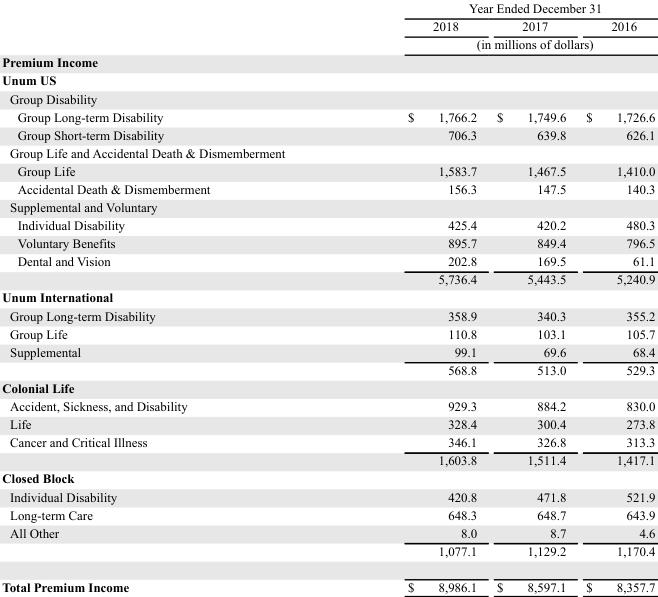table: (1, 0, 654, 593)
table column: (1, 0, 308, 593), (308, 0, 486, 593), (486, 0, 575, 593), (575, 0, 654, 593)
table column header: (1, 0, 654, 52)
table projected row header: (1, 70, 654, 89), (1, 468, 654, 487), (1, 52, 654, 70), (1, 89, 654, 107), (1, 143, 654, 161), (1, 197, 654, 215), (1, 288, 654, 306), (1, 378, 654, 396)
table row: (1, 541, 654, 568), (1, 568, 654, 593), (1, 70, 654, 89), (1, 251, 654, 270), (1, 468, 654, 487), (1, 16, 654, 34), (1, 34, 654, 52), (1, 52, 654, 70), (1, 89, 654, 107), (1, 107, 654, 125), (1, 125, 654, 143), (1, 143, 654, 161), (1, 161, 654, 179), (1, 179, 654, 197), (1, 197, 654, 215), (1, 215, 654, 233), (1, 233, 654, 251), (1, 270, 654, 288), (1, 288, 654, 306), (1, 306, 654, 324), (1, 324, 654, 342), (1, 342, 654, 360), (1, 360, 654, 378), (1, 378, 654, 396), (1, 396, 654, 414), (1, 414, 654, 432), (1, 432, 654, 450), (1, 450, 654, 468), (1, 487, 654, 505), (1, 505, 654, 523), (1, 523, 654, 541), (1, 0, 654, 16)
table spanning cell: (308, 34, 654, 52), (308, 0, 654, 16)
